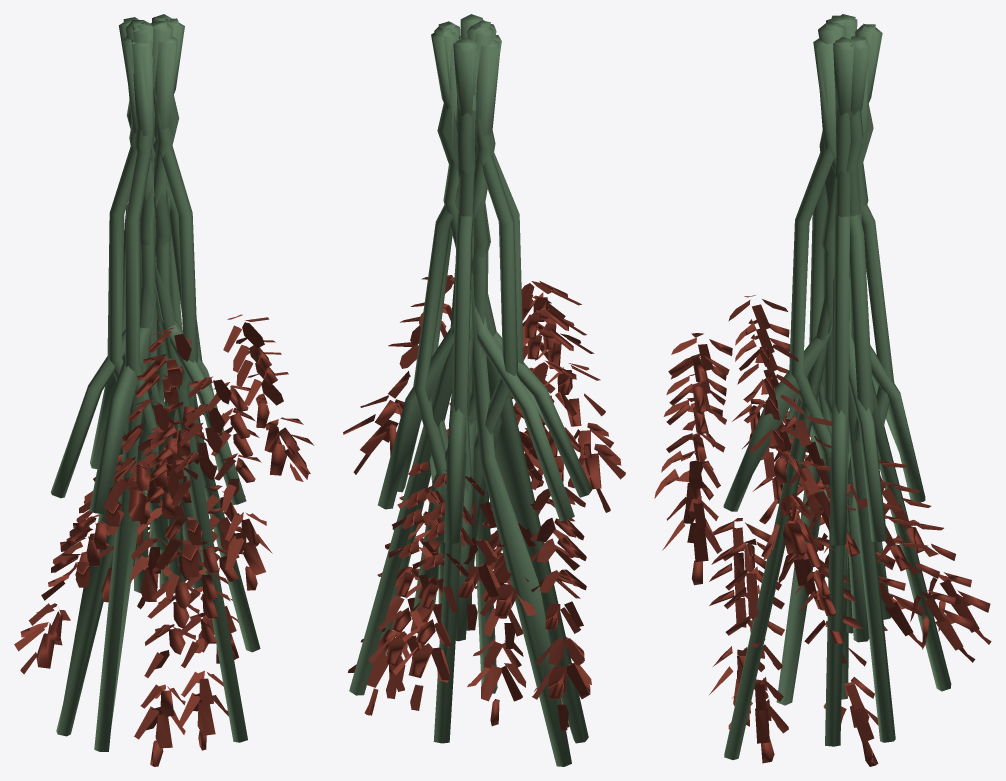
The model's file is Kwiaty2.fbx.
3 renders of one model, left to right at view 1: azimuth 30°, elevation 25°; view 2: azimuth 150°, elevation 25°; view 3: azimuth 270°, elevation 25°, orthographic. The views are drawn at different scales.
Visible parts, largest first — view 1: Łodyga3, Kwiatki2; view 2: Łodyga3, Kwiatki2; view 3: Łodyga3, Kwiatki2.
Part boxes in pixels (x1=…): Łodyga3: x1=50, y1=14, x2=260, y2=751; Kwiatki2: x1=14, y1=314, x2=314, y2=766; Łodyga3: x1=349, y1=14, x2=592, y2=766; Kwiatki2: x1=343, y1=275, x2=625, y2=730; Łodyga3: x1=723, y1=14, x2=951, y2=759; Kwiatki2: x1=654, y1=295, x2=991, y2=766.
Bounding box in the file's own units: 46.55 × 118 × 49.36.
